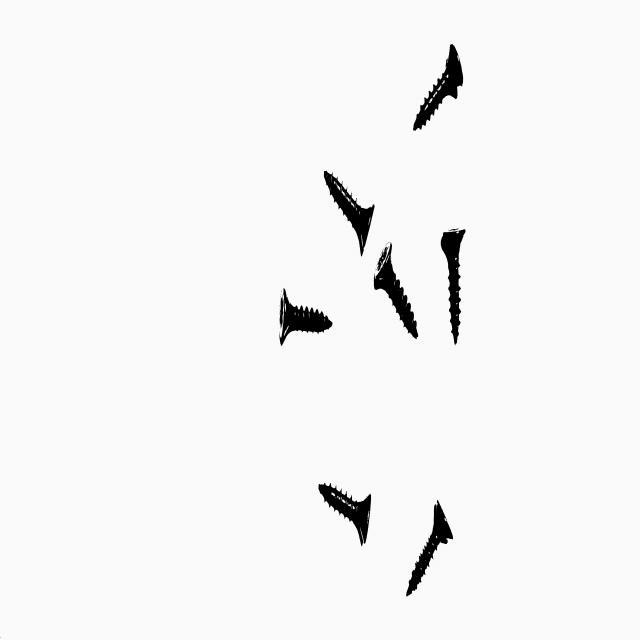Screw: (407, 500, 454, 596), (414, 42, 464, 129), (324, 169, 375, 254), (374, 241, 418, 337), (319, 483, 372, 545), (279, 287, 332, 344), (441, 228, 466, 343)
